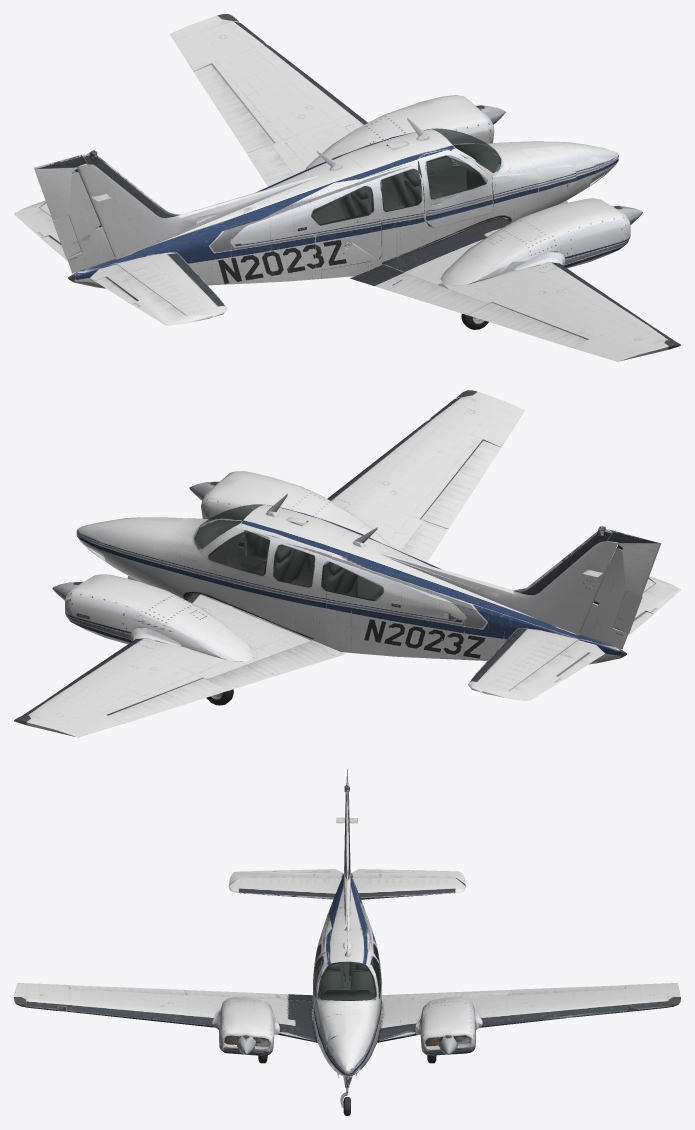
File: Beechcraft.glb
3 renders of one model, top to bottom at view 1: azimuth 30°, elevation 25°; view 2: azimuth 150°, elevation 25°; view 3: azimuth 270°, elevation 25°, orthographic. The views are drawn at different scales.
Parts seen in each view (by area): view 1: b55, glass, cabin; view 2: b55, glass, cabin; view 3: b55, glass, cabin.
Boxes of the visible parts, x1,y1,x2,y2 form: b55: [14, 14, 680, 361]; glass: [311, 128, 500, 225]; cabin: [311, 140, 499, 266]; b55: [14, 390, 680, 737]; glass: [194, 504, 383, 600]; cabin: [191, 517, 383, 601]; b55: [14, 769, 680, 1076]; glass: [313, 932, 381, 1000]; cabin: [312, 933, 381, 1044].
Bounding box in the file's own units: 8.56 × 3.01 × 11.46.
Materials: 5 (2 with a texture image).
